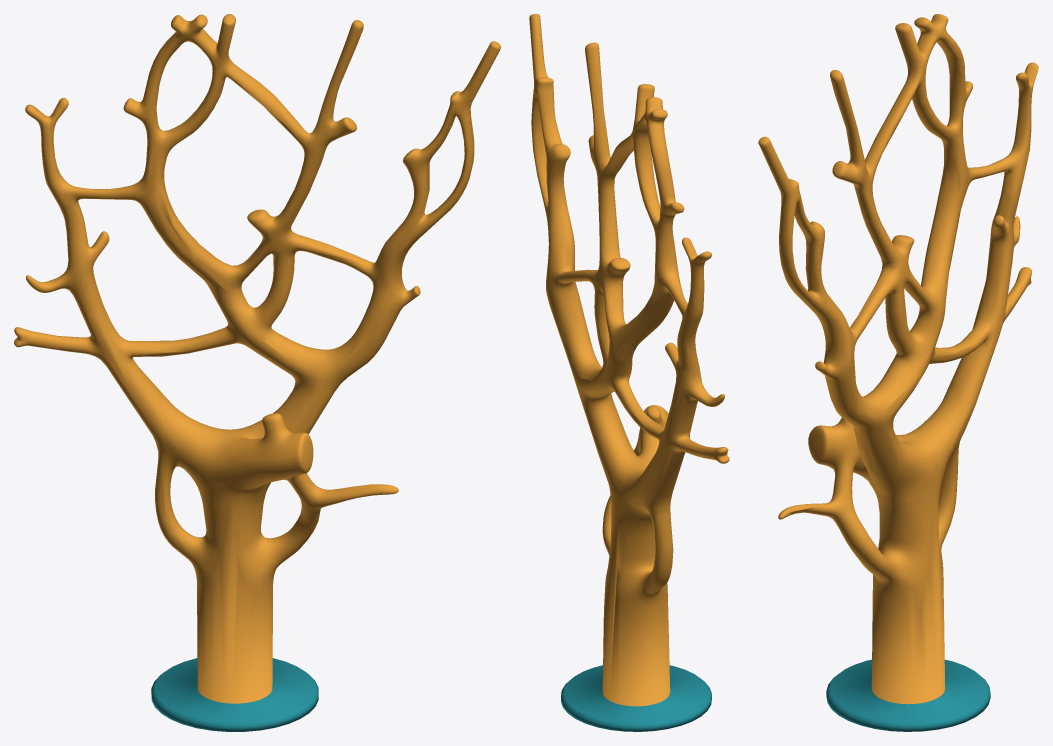
Rendered from ShowPieceTree1.fbx.
3 views of the same model, side by side, from view 1: azimuth 30°, elevation 25°; view 2: azimuth 150°, elevation 25°; view 3: azimuth 270°, elevation 25° (orthographic). The views are drawn at different scales.
Visible parts, largest first — view 1: ShowPieceTree1; view 2: ShowPieceTree1; view 3: ShowPieceTree1.
Part boxes in pixels (x1,y1,x2,y2): ShowPieceTree1: (14, 14, 500, 731); ShowPieceTree1: (529, 14, 729, 731); ShowPieceTree1: (758, 14, 1038, 731).
Size of the model in its own units: 0.8462 by 1.57 by 0.5946.
